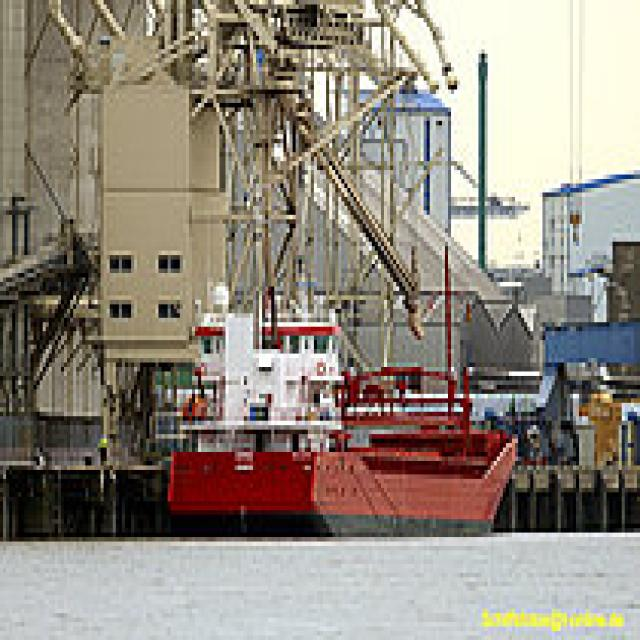Cargo: (162, 264, 518, 537)
